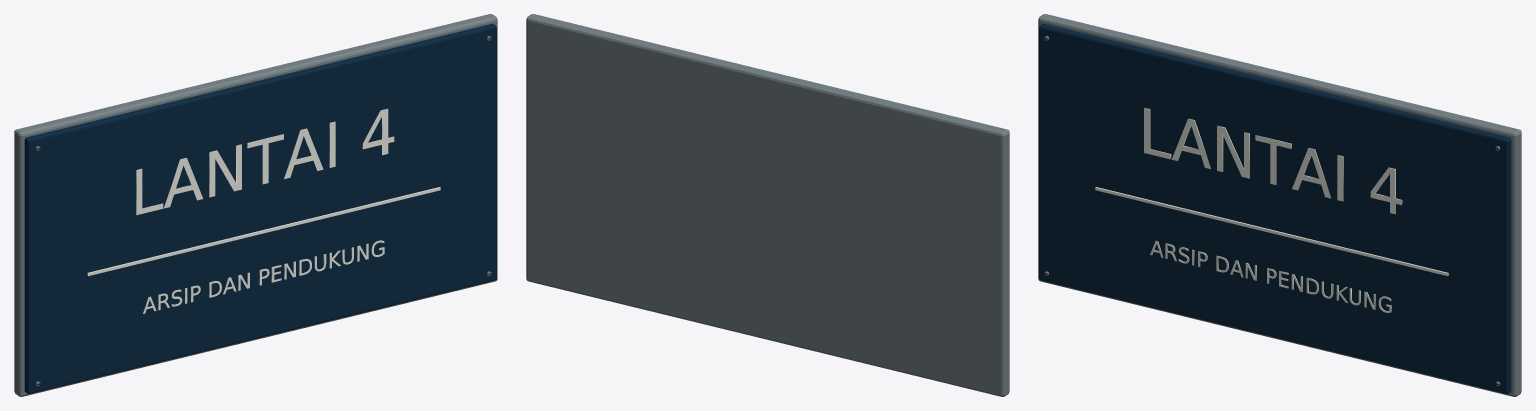
File: OAA_Papan_Lantai_04.fbx
The picture shows the model from 3 angles, left to right: view 1: azimuth 30°, elevation 25°; view 2: azimuth 150°, elevation 25°; view 3: azimuth 330°, elevation 25°; orthographic projection.
Visible parts, largest first — view 1: Body; view 2: Body; view 3: Body.
Part boxes in pixels (left/top/right/bottom): Body: left=14, top=14, right=497, bottom=396; Body: left=526, top=14, right=1009, bottom=396; Body: left=1038, top=14, right=1521, bottom=396.
Size of the model in its own units: 0.72 by 0.38 by 0.0315.
